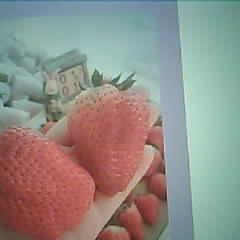straw-ripe: (0, 127, 94, 239), (70, 84, 150, 194)
